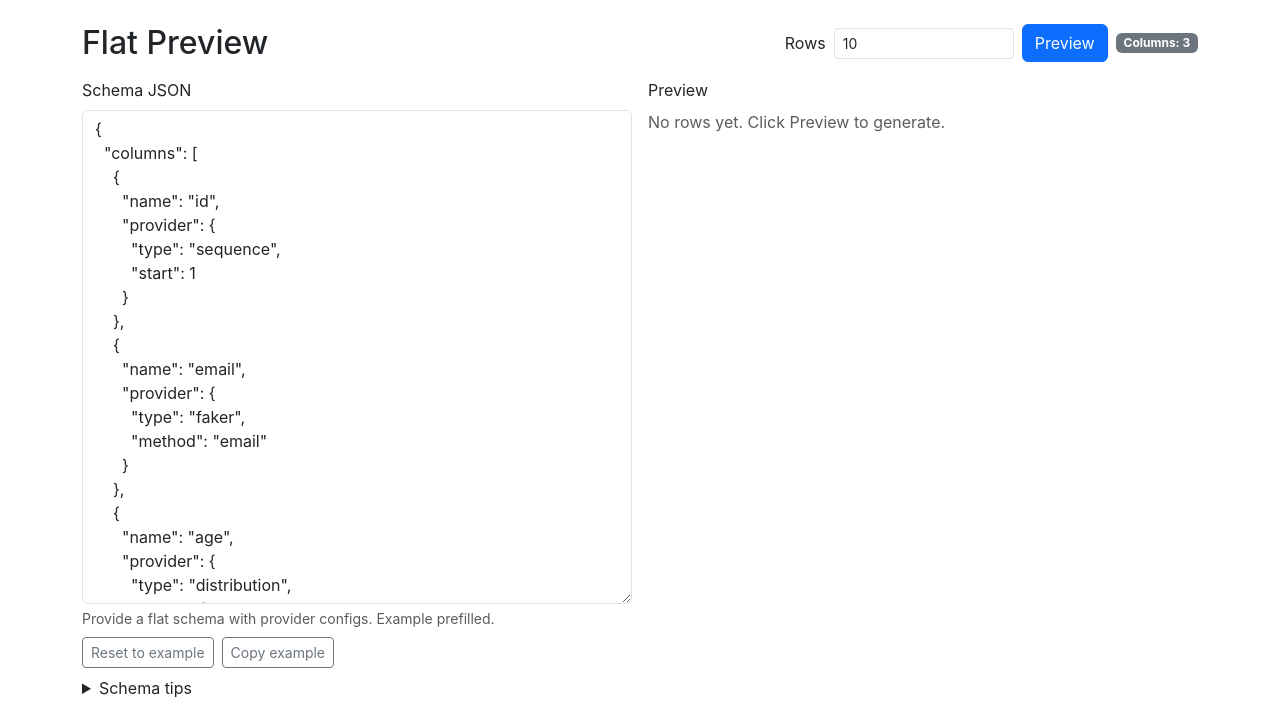
Test: FlatPreviewPage › renders preview table after successful run
expect the heading "Flat Preview" is shown: met, box [82,24,268,62]
expect the text "No rows yet. Click Preview to generate." is shown: met, box [648,112,945,132]
Click the button "Preview". click: click(1065, 43)
box: [1022,24,1108,62]
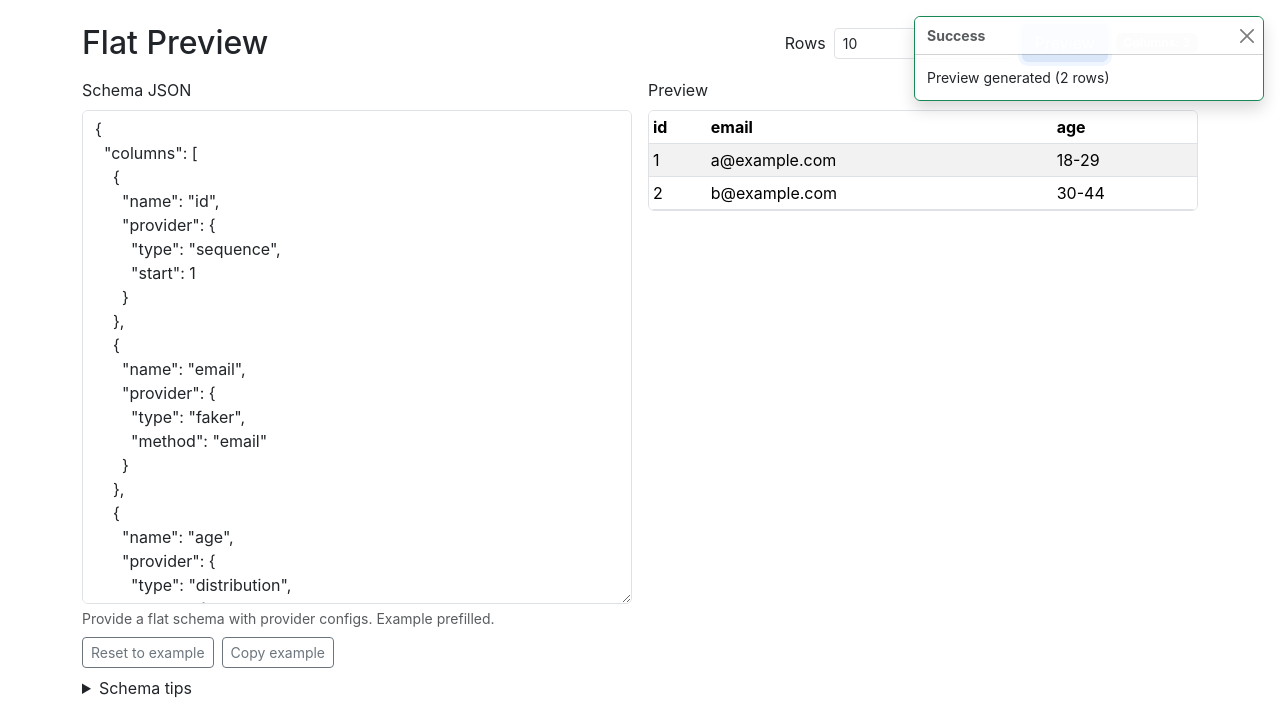
expect the column heading "id" is shown: met, box [649,111,707,144]
expect the column heading "email" is shown: met, box [707,111,1053,144]
expect the column heading "age" is shown: met, box [1053,111,1197,144]
